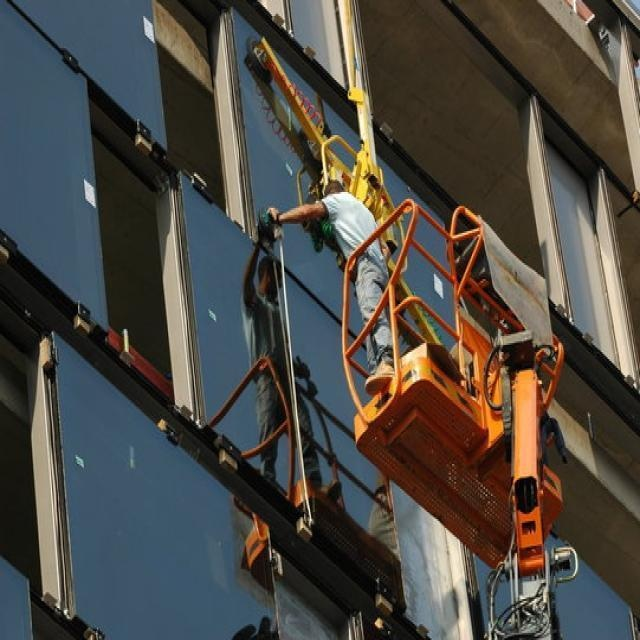Arnes_seguridad: (317, 213, 334, 241)
